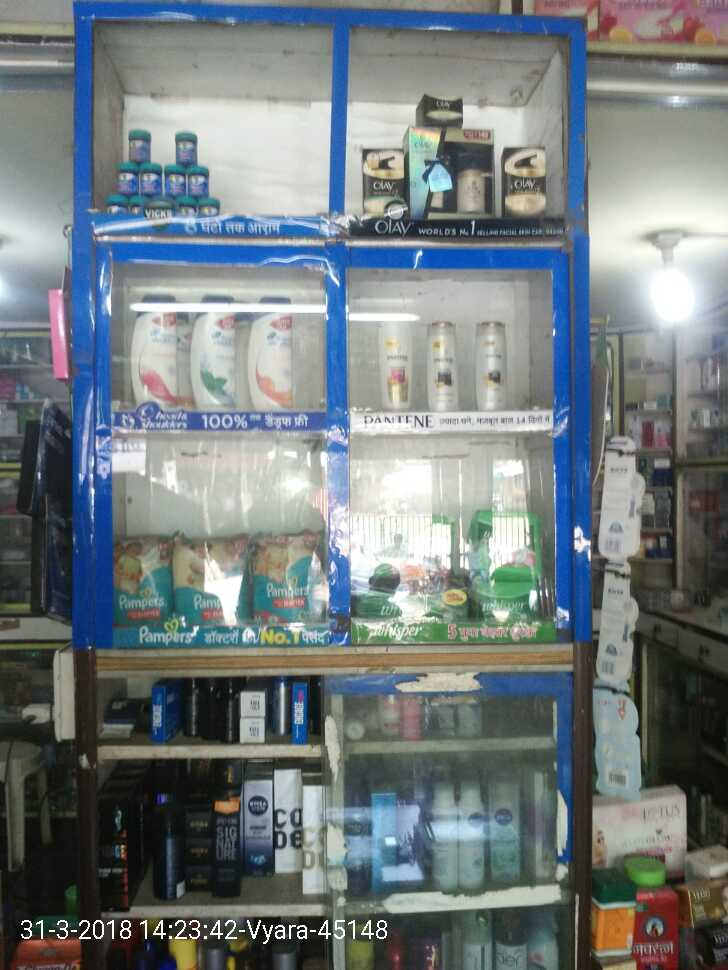vicks: (174, 131, 198, 163), (115, 160, 137, 190), (130, 126, 150, 158), (164, 166, 186, 193), (186, 166, 206, 193), (141, 163, 159, 191), (172, 199, 198, 218), (126, 197, 149, 216), (102, 198, 126, 216), (199, 199, 216, 218)
